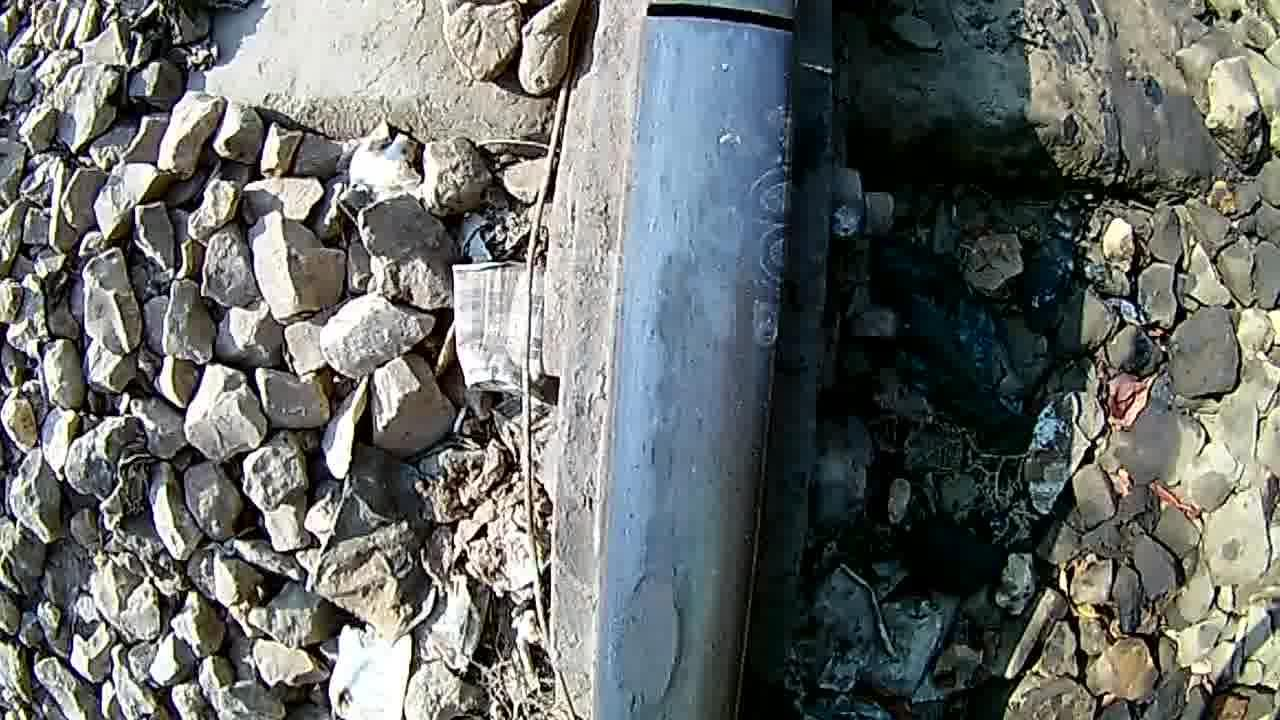bolt_missing: (600, 122, 759, 474), (578, 471, 775, 720)
